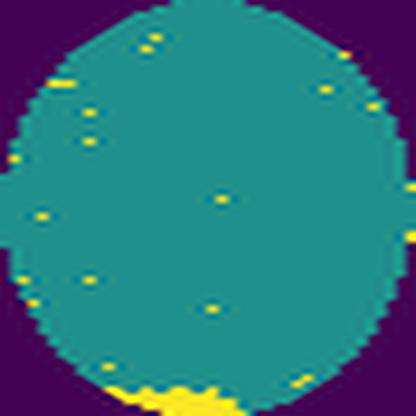Edge-Loc: (102, 380, 251, 416)
